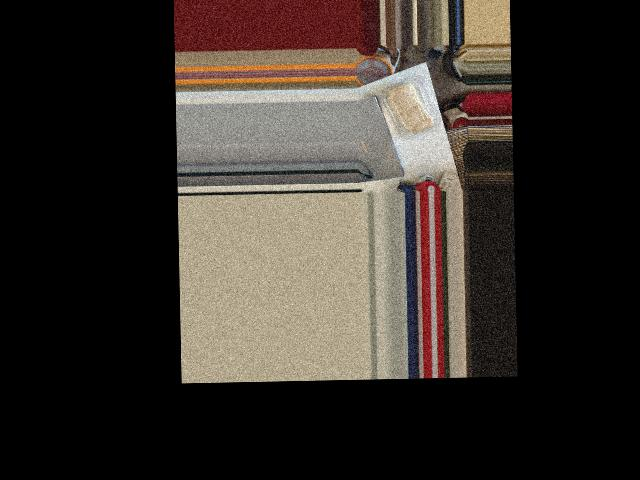cheese: (380, 70, 440, 142)
